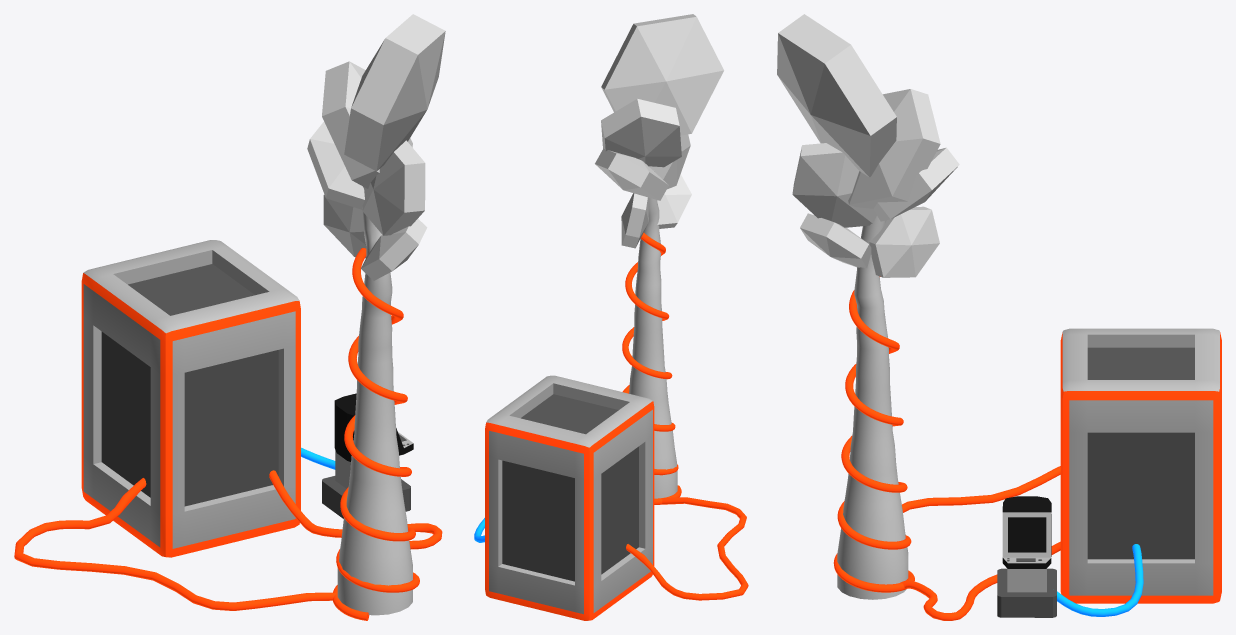
The model's file is Tree_Machine_2.fbx.
The picture shows the model from 3 angles, left to right: view 1: azimuth 30°, elevation 25°; view 2: azimuth 150°, elevation 25°; view 3: azimuth 270°, elevation 25°; orthographic projection. The views are drawn at different scales.
Parts seen in each view (by area): view 1: Object001, Cylinder001, Sphere006, Helix001, Line004, Sphere002, Sphere004, Box002, Sphere003, Sphere001, Sphere005, Line001; view 2: Object001, Sphere006, Cylinder001, Sphere004, Line004, Sphere003, Helix001, Sphere005, Sphere001, Sphere002; view 3: Object001, Cylinder001, Sphere006, Box002, Sphere004, Sphere002, Helix001, Sphere005, Sphere001, Sphere003, Line004, Line001 (+1 smaller).
Boxes of the visible parts, bbox=[...] form: Object001: bbox=[81, 240, 300, 557]; Cylinder001: bbox=[337, 186, 412, 615]; Sphere006: bbox=[344, 14, 445, 171]; Helix001: bbox=[332, 248, 419, 620]; Line004: bbox=[14, 478, 336, 610]; Sphere002: bbox=[362, 140, 425, 235]; Sphere004: bbox=[322, 61, 412, 188]; Box002: bbox=[322, 393, 413, 518]; Sphere003: bbox=[307, 121, 364, 209]; Sphere001: bbox=[361, 219, 427, 280]; Sphere005: bbox=[323, 194, 366, 258]; Line001: bbox=[269, 470, 442, 549]; Object001: bbox=[485, 375, 654, 620]; Sphere006: bbox=[601, 14, 723, 135]; Cylinder001: bbox=[629, 171, 677, 498]; Sphere004: bbox=[601, 98, 681, 167]; Line004: bbox=[626, 497, 748, 600]; Sphere003: bbox=[595, 148, 668, 200]; Helix001: bbox=[622, 232, 681, 504]; Sphere005: bbox=[621, 193, 648, 248]; Sphere001: bbox=[657, 174, 691, 228]; Sphere002: bbox=[649, 134, 690, 189]; Object001: bbox=[1060, 328, 1221, 603]; Cylinder001: bbox=[837, 216, 908, 599]; Sphere006: bbox=[777, 14, 896, 177]; Box002: bbox=[997, 496, 1056, 617]; Sphere004: bbox=[848, 89, 940, 208]; Sphere002: bbox=[792, 143, 876, 227]; Helix001: bbox=[833, 276, 914, 592]; Sphere005: bbox=[869, 206, 939, 277]; Sphere001: bbox=[800, 213, 871, 268]; Sphere003: bbox=[873, 147, 959, 221]; Line004: bbox=[902, 466, 1060, 512]; Line001: bbox=[900, 541, 1060, 620].
Bounding box in the file's own units: 47.01 × 76.97 × 54.67.
